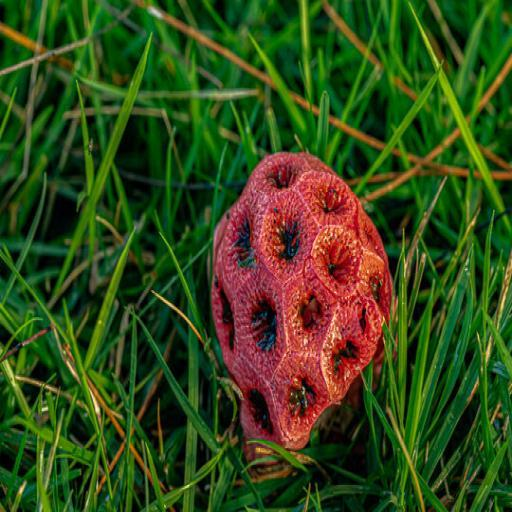mushroom: (211, 140, 395, 462)
